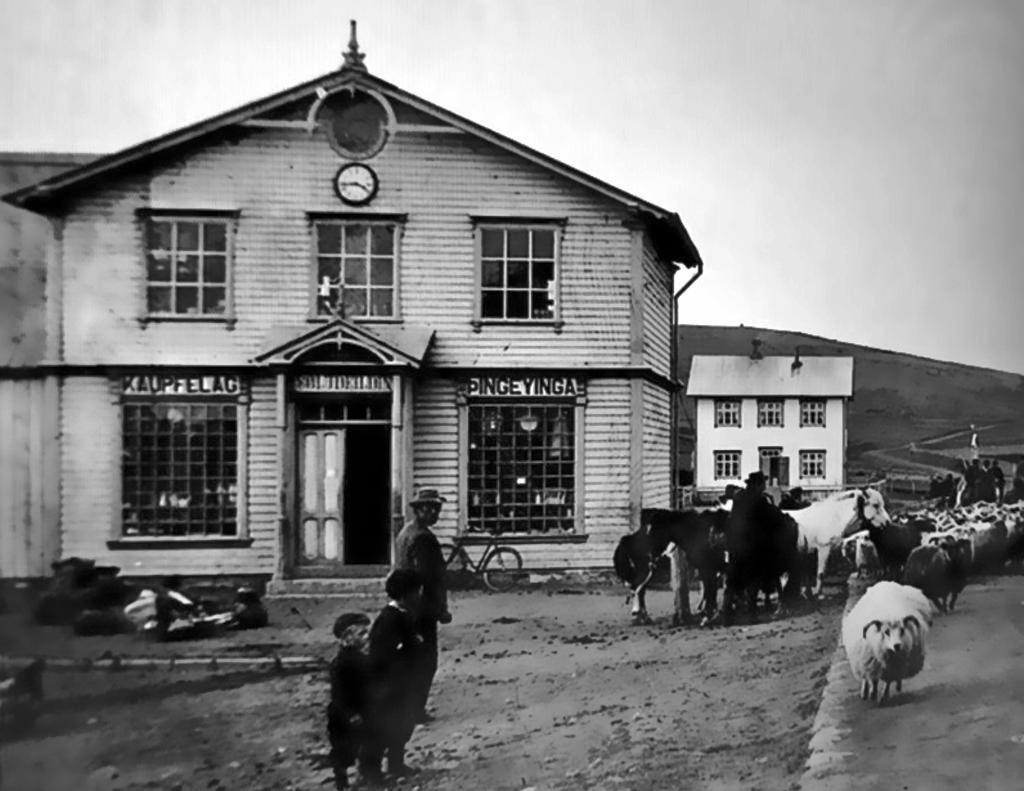Sheep: (840, 578, 931, 708), (895, 536, 978, 620), (961, 506, 1009, 578), (1001, 502, 1023, 570)
